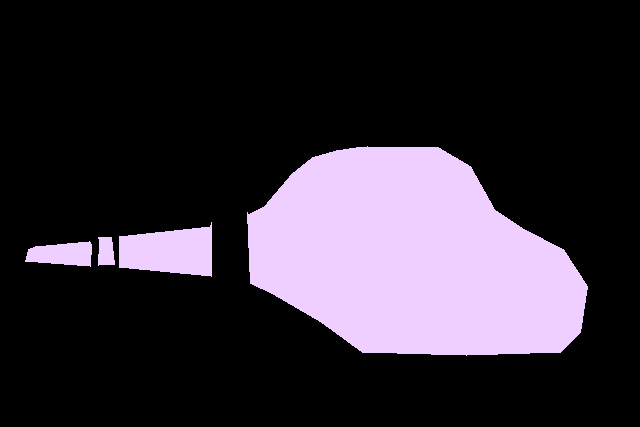Train: (25, 146, 587, 355)
